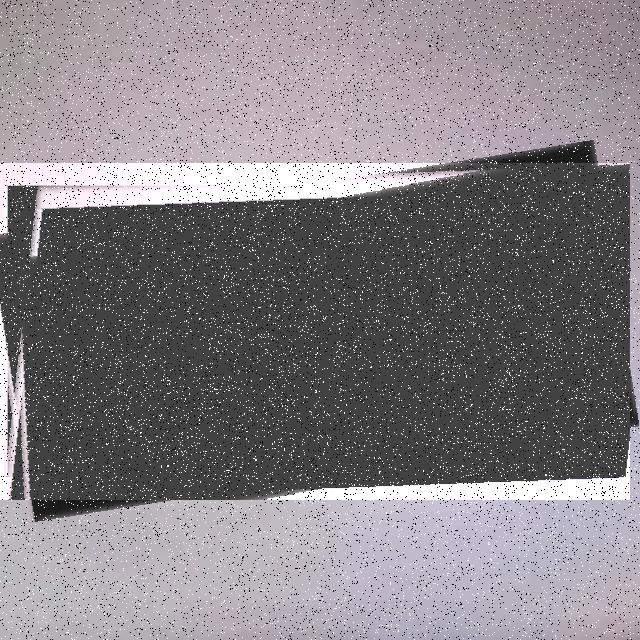lima puluh ribu rupiah: (0, 163, 630, 500)
